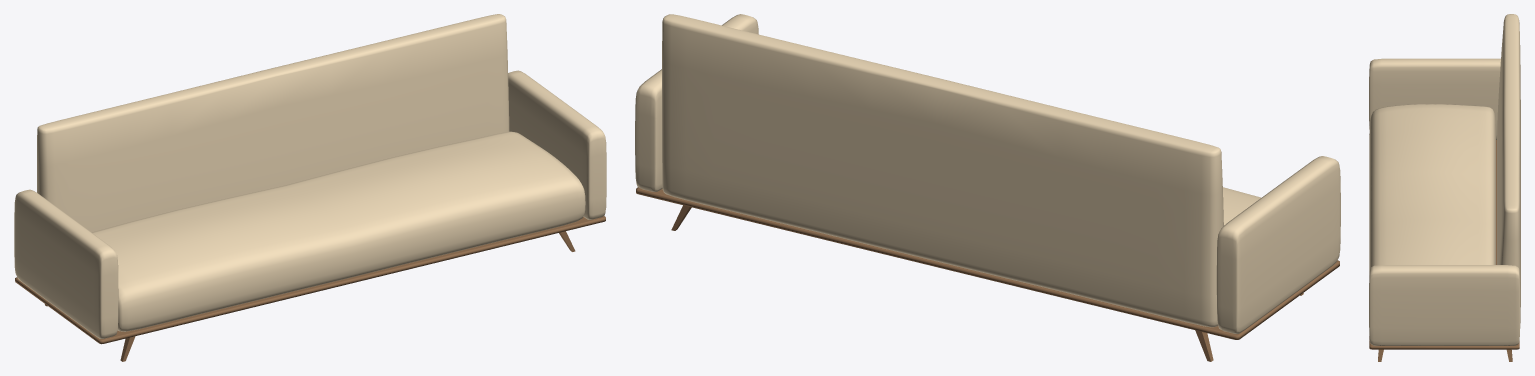
Rendered from Sofa.glb.
3 views of the same model, side by side, from view 1: azimuth 30°, elevation 25°; view 2: azimuth 150°, elevation 25°; view 3: azimuth 270°, elevation 25° (orthographic). The views are drawn at different scales.
Parts seen in each view (by area): view 1: Long Sofa; view 2: Long Sofa; view 3: Long Sofa.
Boxes of the visible parts, <box> form: Long Sofa: <box>14,14,606,361</box>; Long Sofa: <box>635,14,1340,361</box>; Long Sofa: <box>1369,14,1520,361</box>.
Bounding box in the file's own units: 3.32 × 1.12 × 0.9963.
1 material, 1 textured.
